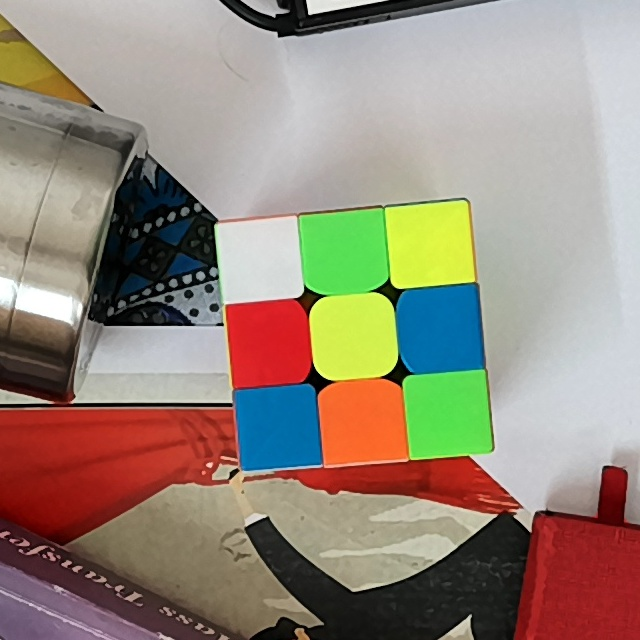tile: (394, 209, 465, 278), (412, 382, 485, 449), (327, 389, 398, 454), (307, 221, 380, 284), (234, 307, 300, 376), (407, 296, 475, 362), (226, 226, 296, 290), (243, 395, 312, 459), (318, 305, 388, 367)
